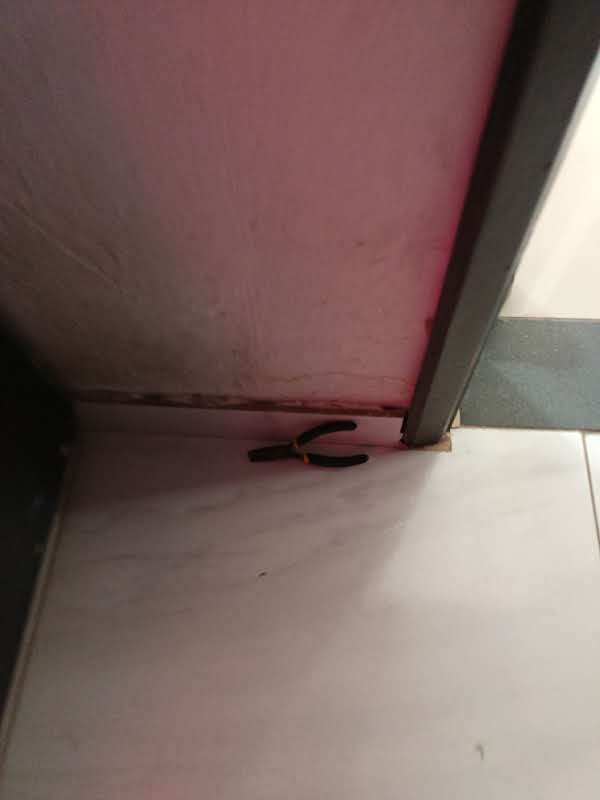Pinzas: (248, 420, 368, 467)
